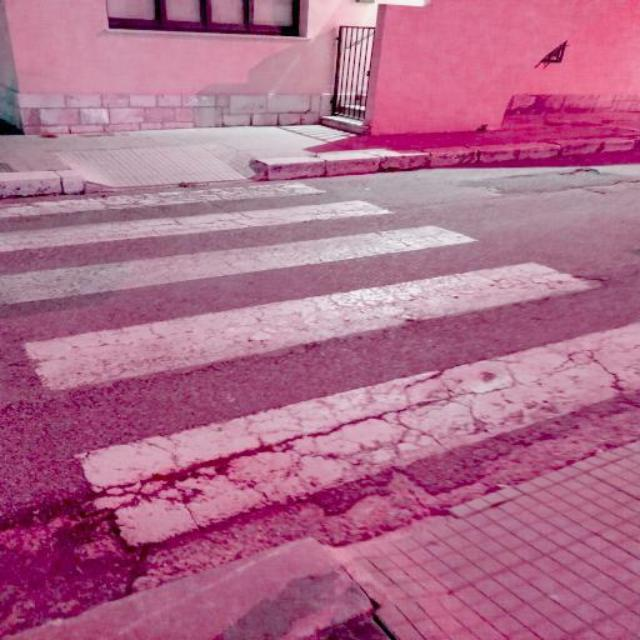sidewalk: (0, 171, 640, 591)
